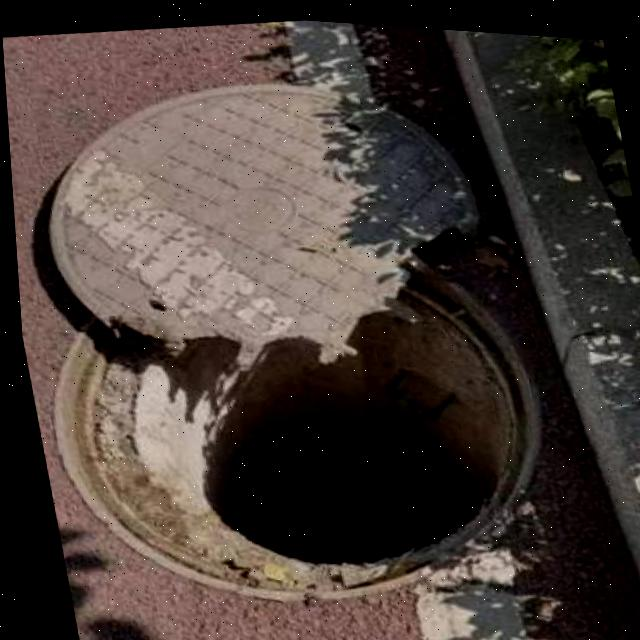manhole: (2, 33, 569, 628)
